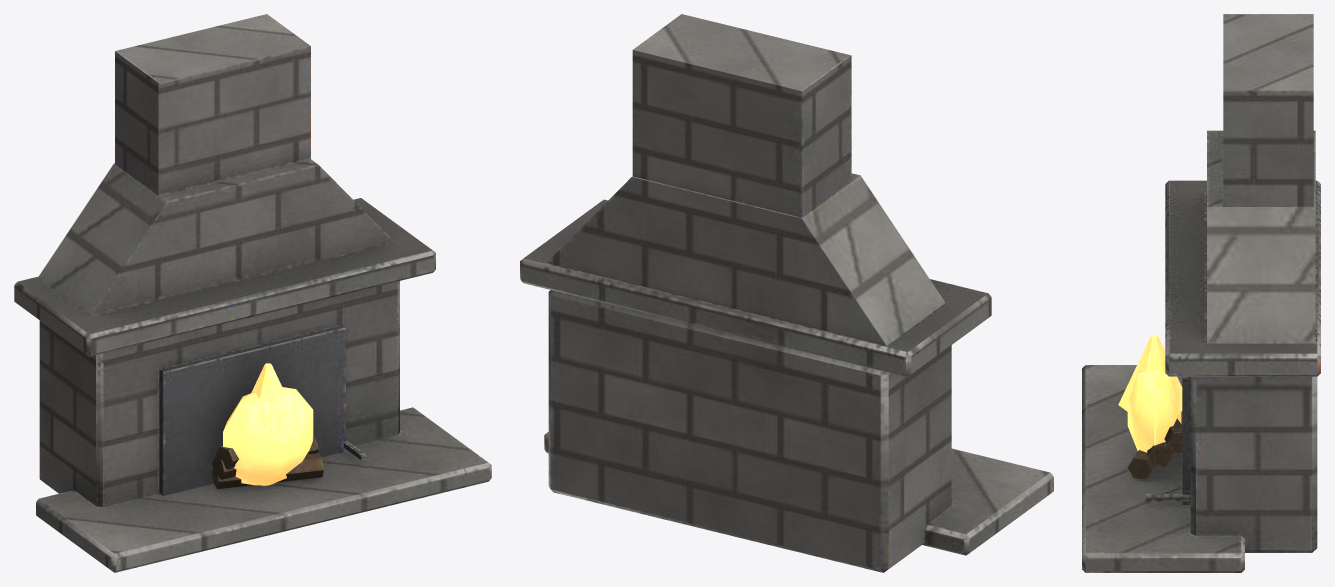
Rendered from lareira.glb.
The picture shows the model from 3 angles, left to right: view 1: azimuth 30°, elevation 25°; view 2: azimuth 150°, elevation 25°; view 3: azimuth 270°, elevation 25°; orthographic projection. The views are drawn at different scales.
Parts seen in each view (by area): view 1: lareira; view 2: lareira; view 3: lareira.
Boxes of the visible parts, x1,y1,x2,y2 form: lareira: [14, 14, 491, 572]; lareira: [520, 14, 1053, 572]; lareira: [1082, 14, 1320, 572].
Size of the model in its own units: 2.5 by 2.6 by 1.32.
Materials: 1 (1 with a texture image).
